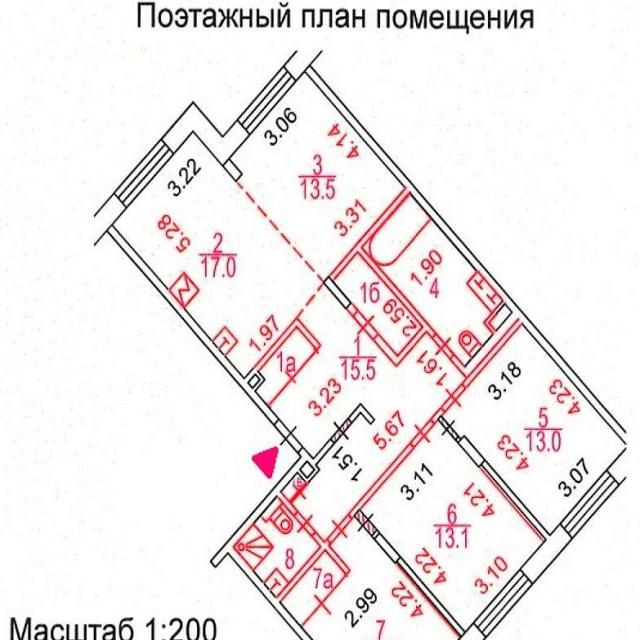Bathrooms: (363, 194, 502, 366), (234, 499, 319, 595)
Corridors: (271, 285, 465, 541), (334, 255, 421, 353), (256, 326, 315, 405), (281, 553, 346, 623), (282, 473, 304, 500)
Doors: (267, 347, 319, 407), (300, 575, 346, 627), (274, 417, 304, 453), (440, 382, 467, 414), (409, 417, 436, 449), (353, 310, 380, 341), (326, 512, 352, 544), (354, 509, 379, 539), (432, 331, 455, 360), (438, 415, 461, 444), (329, 417, 353, 444), (294, 510, 317, 537), (289, 481, 311, 505)
LBwalls: (163, 102, 250, 181), (521, 524, 573, 584), (93, 192, 127, 246), (284, 49, 323, 80), (458, 436, 485, 468), (324, 276, 350, 308), (607, 445, 628, 484), (375, 535, 399, 562), (458, 624, 487, 640)
Offices: (114, 134, 323, 376), (362, 422, 547, 631), (443, 324, 627, 533), (231, 72, 404, 282), (304, 519, 461, 640)
Walls: (304, 65, 627, 446), (108, 226, 322, 425), (210, 438, 351, 640), (397, 556, 464, 637), (482, 460, 550, 539), (348, 444, 416, 520), (349, 403, 375, 425), (431, 409, 445, 425)
Windows: (236, 65, 297, 135), (114, 138, 174, 208), (560, 470, 619, 539), (473, 570, 533, 637)
